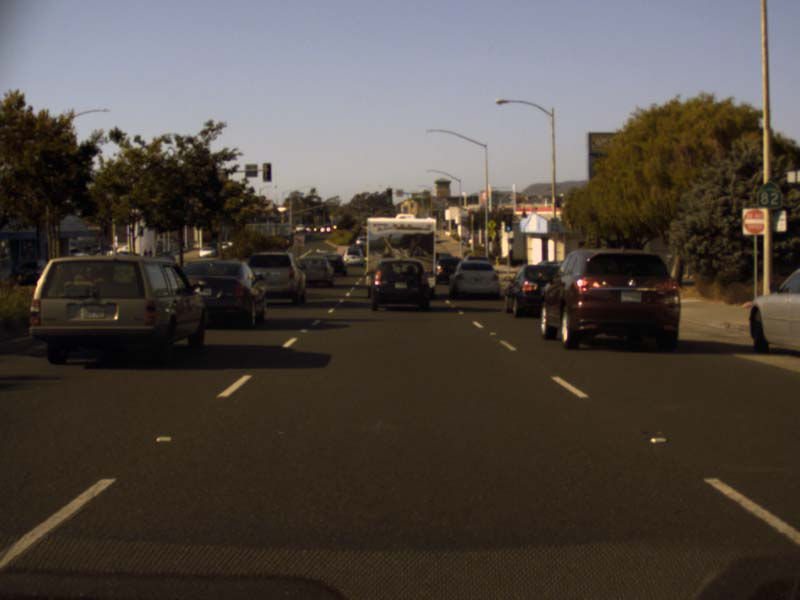Green: (505, 214, 512, 230), (386, 188, 391, 200)
